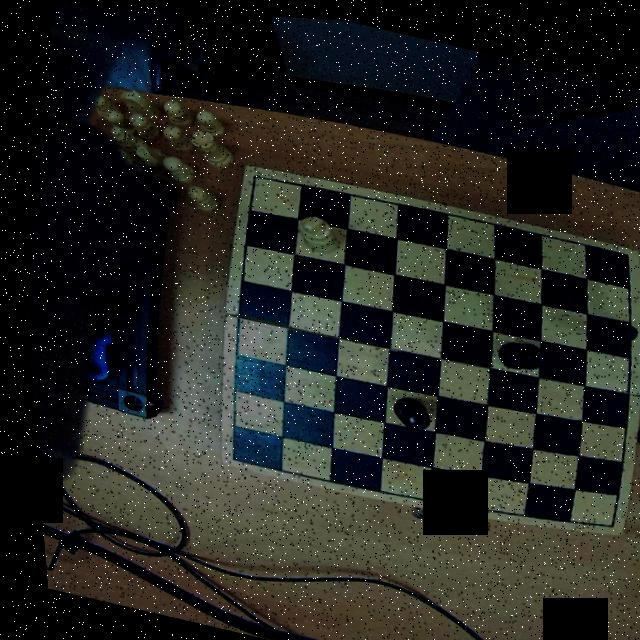chess-table-corners: (213, 440, 243, 467), (237, 163, 264, 189), (604, 236, 635, 258), (590, 504, 616, 526)
